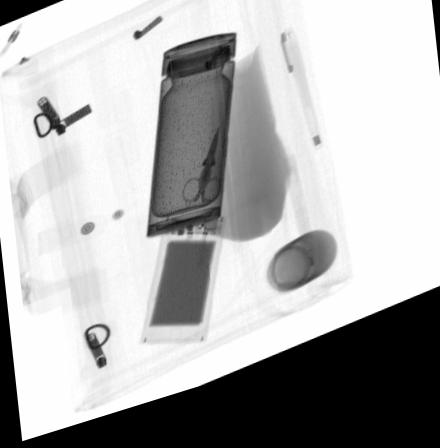Powerbank: (137, 225, 229, 355)
Scissors: (180, 136, 220, 216)
